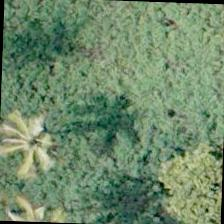Kelapa_Sawit: (0, 96, 74, 189)
